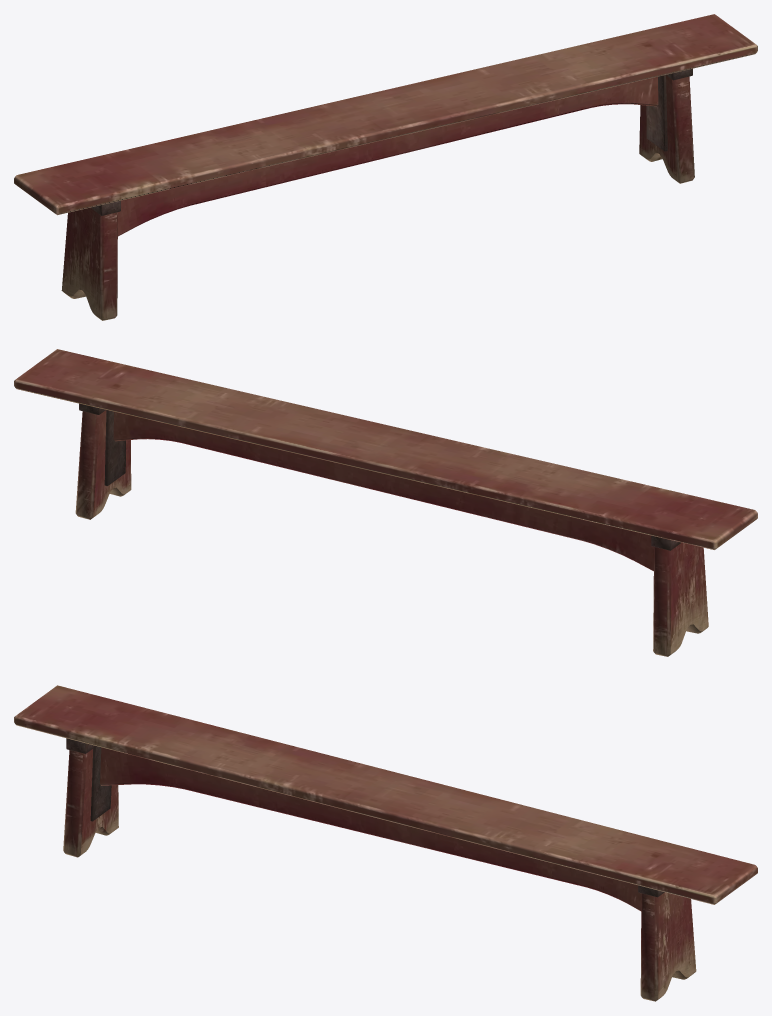
The model's file is bench.glb.
3 views of the same model, one above another, from view 1: azimuth 30°, elevation 25°; view 2: azimuth 150°, elevation 25°; view 3: azimuth 330°, elevation 25° (orthographic).
Visible parts, largest first — view 1: Cube_Material.001_0; view 2: Cube_Material.001_0; view 3: Cube_Material.001_0.
Boxes of the visible parts, x1,y1,x2,y2 form: Cube_Material.001_0: [14, 14, 757, 320]; Cube_Material.001_0: [14, 349, 757, 656]; Cube_Material.001_0: [14, 685, 757, 1001].
Size of the model in its own units: 2.78 by 0.5016 by 0.2993.
Materials: 1 (1 with a texture image).
